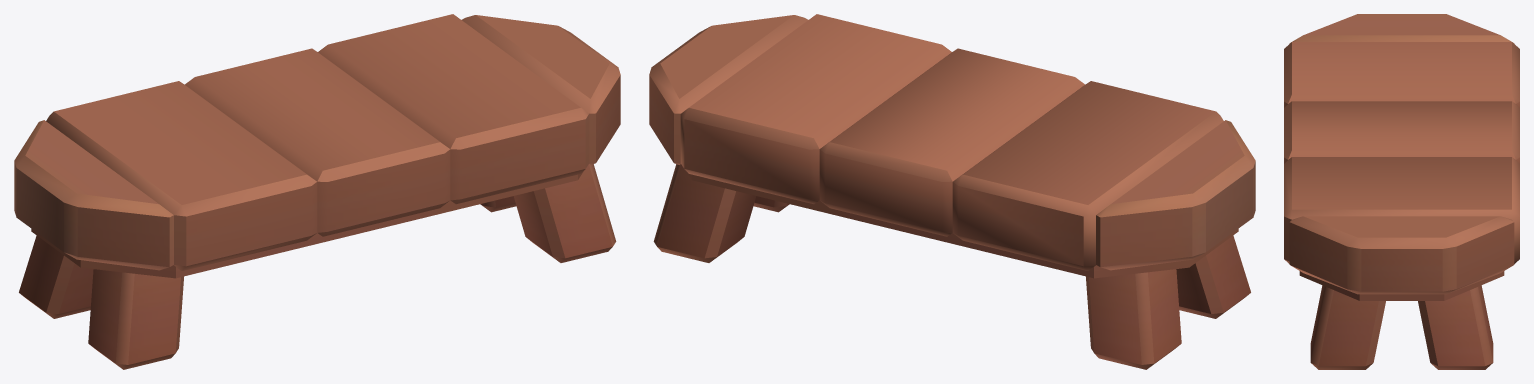
Rendered from bench.glb.
3 views of the same model, side by side, from view 1: azimuth 30°, elevation 25°; view 2: azimuth 150°, elevation 25°; view 3: azimuth 270°, elevation 25° (orthographic). The views are drawn at different scales.
Parts seen in each view (by area): view 1: bench; view 2: bench; view 3: bench.
Part boxes in pixels (left/top/right/bottom): bench: left=14, top=14, right=620, bottom=369; bench: left=649, top=14, right=1255, bottom=369; bench: left=1284, top=14, right=1519, bottom=369.
Bounding box in the file's own units: 1.75 × 0.4999 × 0.7499.
Materials: 1 (1 with a texture image).
